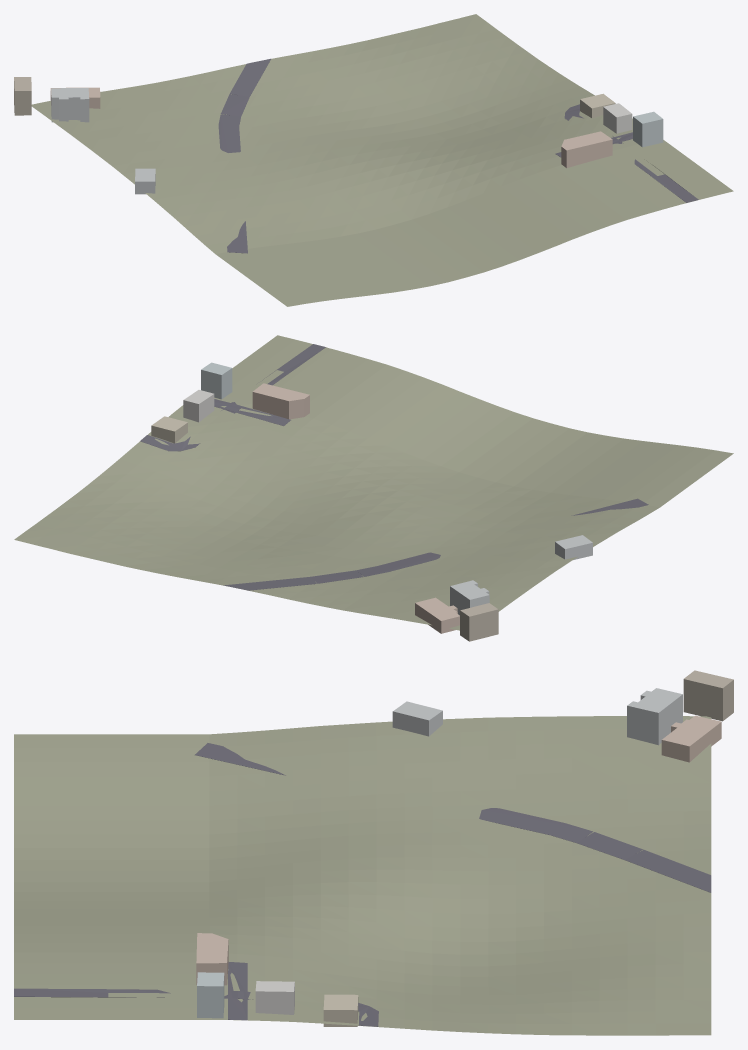
The model's file is chunk_0_9.glb.
3 views of the same model, one above another, from view 1: azimuth 30°, elevation 25°; view 2: azimuth 150°, elevation 25°; view 3: azimuth 270°, elevation 25° (orthographic). The views are drawn at different scales.
Parts seen in each view (by area): view 1: geometry_8, geometry_7, geometry_3, geometry_13, geometry_5, geometry_10, geometry_11, geometry_0, geometry_4, geometry_1, geometry_6; view 2: geometry_8, geometry_7, geometry_4, geometry_10, geometry_13, geometry_2, geometry_5, geometry_3, geometry_0, geometry_6, geometry_1, geometry_11 (+1 smaller); view 3: geometry_8, geometry_13, geometry_3, geometry_4, geometry_2, geometry_10, geometry_11, geometry_6, geometry_0, geometry_7, geometry_5, geometry_1 (+2 smaller).
Boxes of the visible parts, x1=… form: geometry_8: x1=31, y1=14, x2=733, y2=306; geometry_7: x1=561, y1=131, x2=612, y2=168; geometry_3: x1=51, y1=88, x2=89, y2=122; geometry_13: x1=218, y1=114, x2=247, y2=253; geometry_5: x1=633, y1=111, x2=663, y2=147; geometry_10: x1=564, y1=104, x2=698, y2=202; geometry_11: x1=230, y1=58, x2=270, y2=96; geometry_0: x1=603, y1=103, x2=632, y2=133; geometry_4: x1=14, y1=77, x2=31, y2=115; geometry_1: x1=580, y1=93, x2=615, y2=118; geometry_6: x1=135, y1=168, x2=155, y2=194; geometry_8: x1=14, y1=335, x2=733, y2=630; geometry_7: x1=252, y1=383, x2=309, y2=419; geometry_4: x1=460, y1=603, x2=498, y2=641; geometry_10: x1=140, y1=344, x2=325, y2=451; geometry_13: x1=356, y1=498, x2=648, y2=576; geometry_2: x1=415, y1=597, x2=459, y2=633; geometry_5: x1=201, y1=362, x2=232, y2=399; geometry_3: x1=450, y1=580, x2=489, y2=615; geometry_0: x1=183, y1=390, x2=214, y2=422; geometry_6: x1=555, y1=535, x2=592, y2=559; geometry_1: x1=151, y1=416, x2=187, y2=443; geometry_11: x1=223, y1=576, x2=316, y2=590; geometry_8: x1=14, y1=716, x2=711, y2=1035; geometry_13: x1=195, y1=743, x2=592, y2=842; geometry_3: x1=627, y1=688, x2=682, y2=745; geometry_4: x1=683, y1=670, x2=733, y2=721; geometry_2: x1=661, y1=715, x2=721, y2=762; geometry_10: x1=14, y1=988, x2=378, y2=1026; geometry_11: x1=625, y1=849, x2=711, y2=892; geometry_6: x1=392, y1=701, x2=442, y2=736; geometry_0: x1=255, y1=981, x2=294, y2=1014; geometry_7: x1=196, y1=933, x2=228, y2=985; geometry_5: x1=197, y1=972, x2=224, y2=1018; geometry_1: x1=323, y1=994, x2=358, y2=1026.
Size of the model in its own units: 262 by 27.64 by 258.
